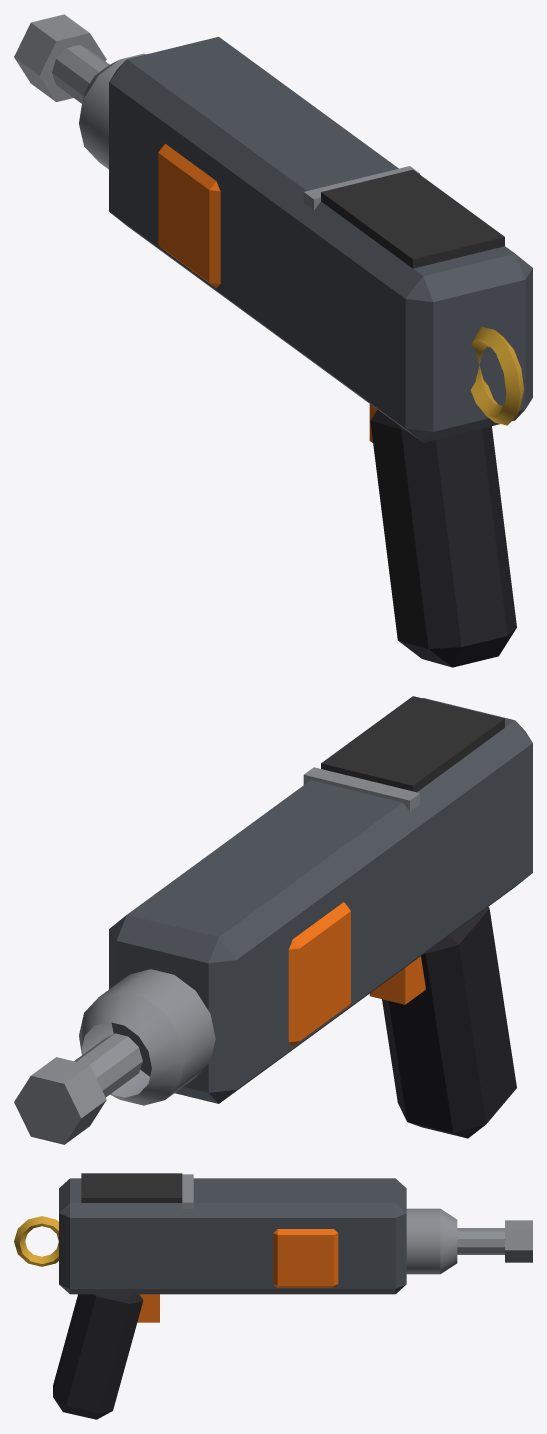
File: repair_tool.obj
The picture shows the model from 3 angles, top to bottom: view 1: azimuth 30°, elevation 25°; view 2: azimuth 150°, elevation 25°; view 3: azimuth 270°, elevation 25°; orthographic projection. The views are drawn at different scales.
Visible parts, largest first — view 1: repair_tool; view 2: repair_tool; view 3: repair_tool.
Part boxes in pixels (x1=…): repair_tool: x1=14, y1=14, x2=532, y2=667; repair_tool: x1=14, y1=696, x2=532, y2=1144; repair_tool: x1=14, y1=1173, x2=532, y2=1419.
Bounding box in the file's own units: 0.08 × 0.2242 × 0.4625.
